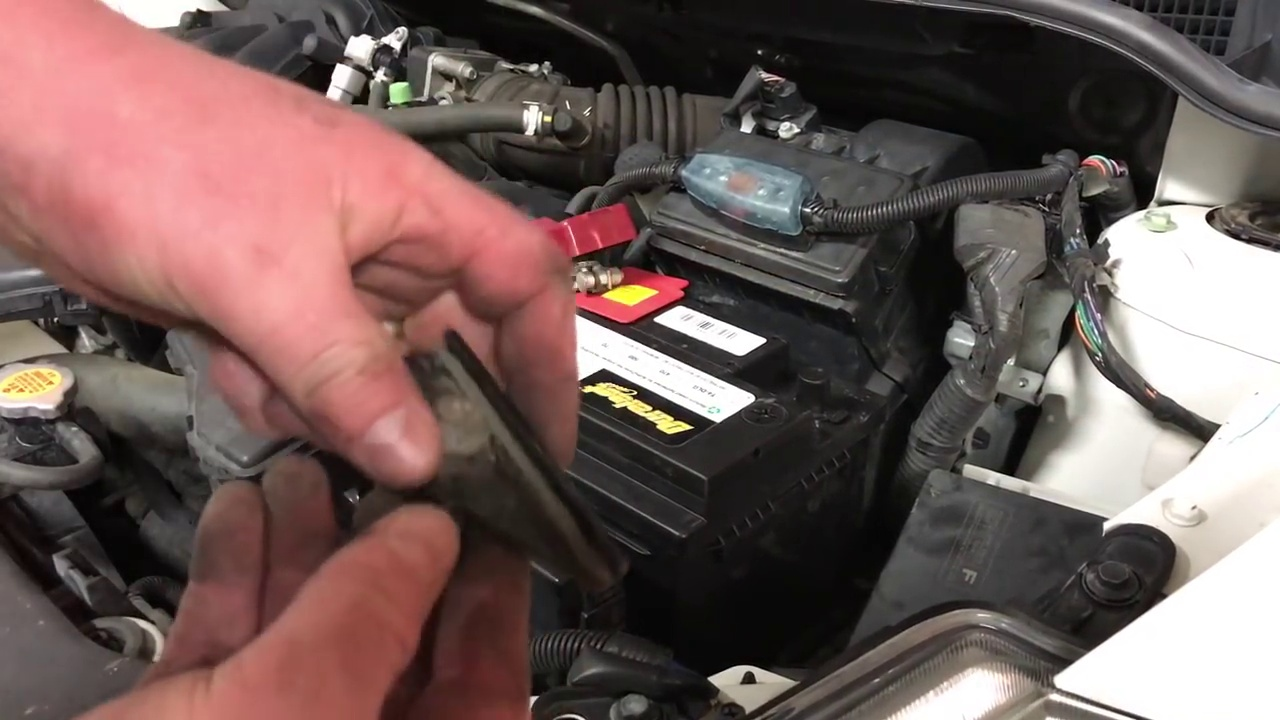battery: (482, 222, 840, 480)
pos_touched: (420, 179, 668, 373)
